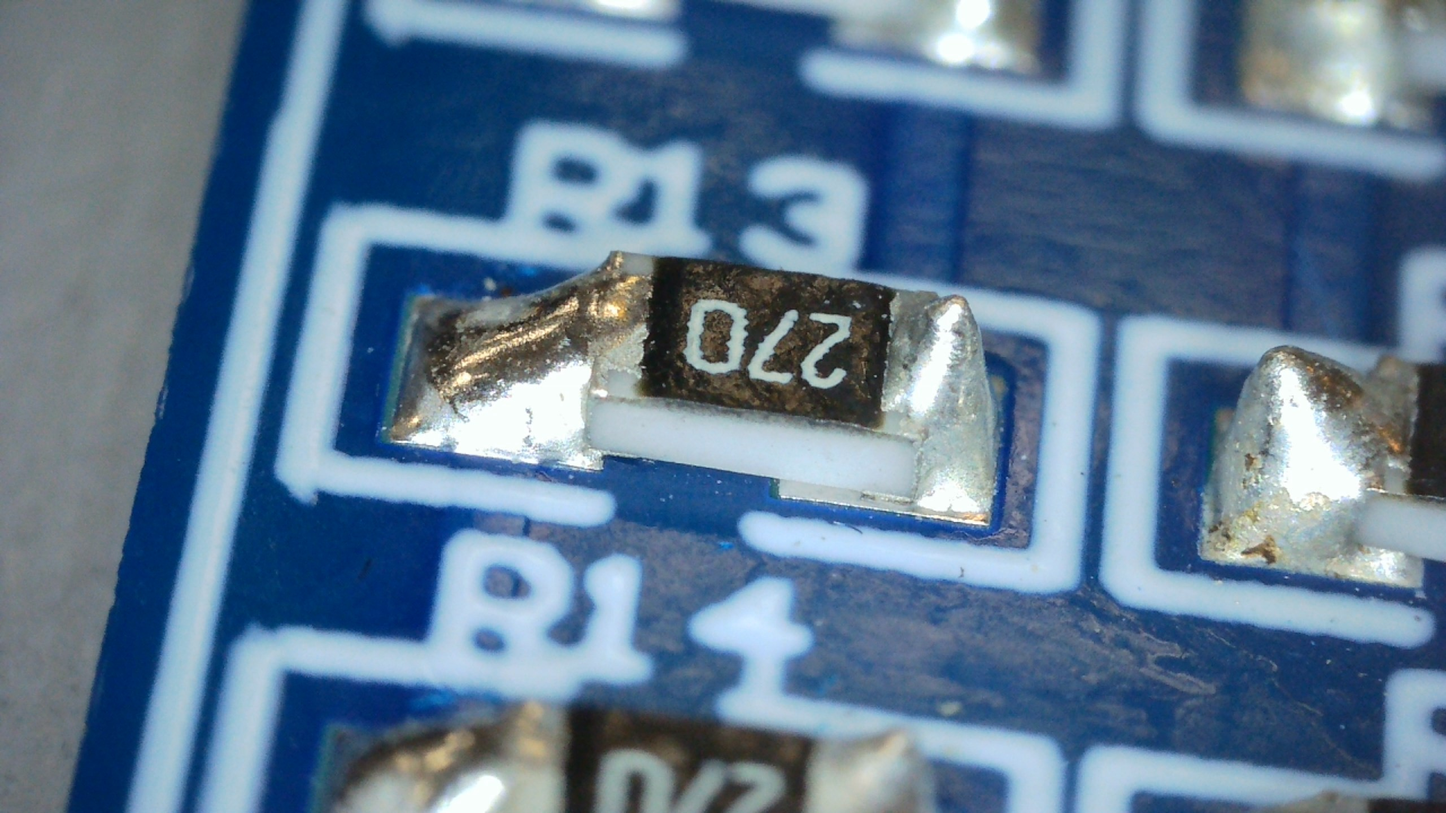NG: (888, 297, 1000, 513)
OK: (418, 250, 653, 451)
